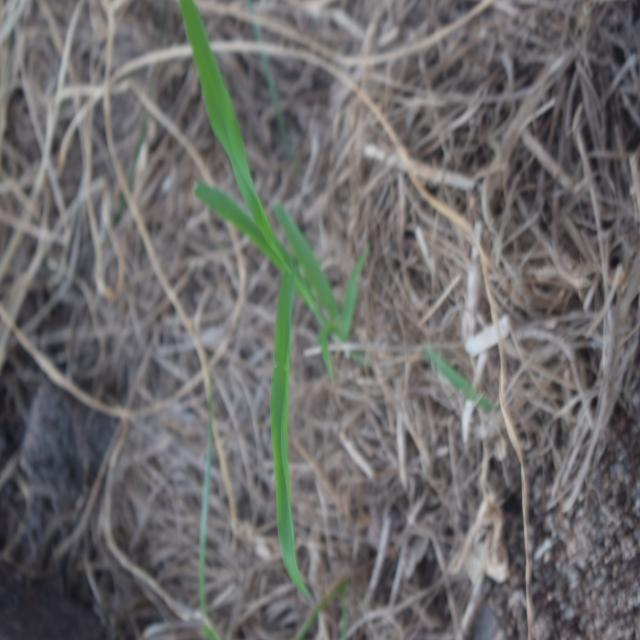crabgrass: (164, 6, 368, 532)
